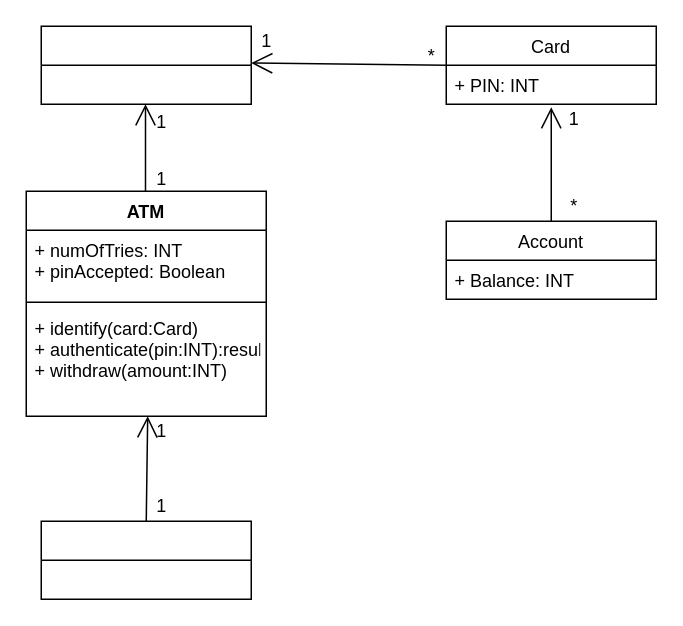
Image size: 683x626. Some labels were removed from this diagram. Each missing label, with the centre of its shape:
"Bank" belongs at (x=145, y=559).
"Customer" belongs at (x=145, y=64).
